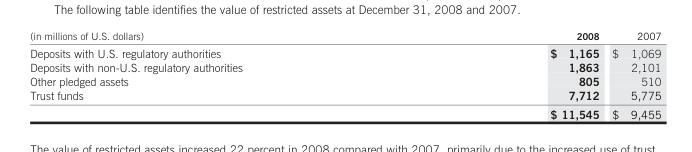table: (29, 28, 660, 120)
table column: (29, 28, 395, 120), (395, 28, 604, 120), (604, 28, 660, 120)
table column header: (29, 28, 660, 43)
table row: (29, 43, 660, 60), (29, 88, 660, 104), (29, 104, 660, 120), (29, 28, 660, 43), (29, 60, 660, 74), (29, 74, 660, 88)
